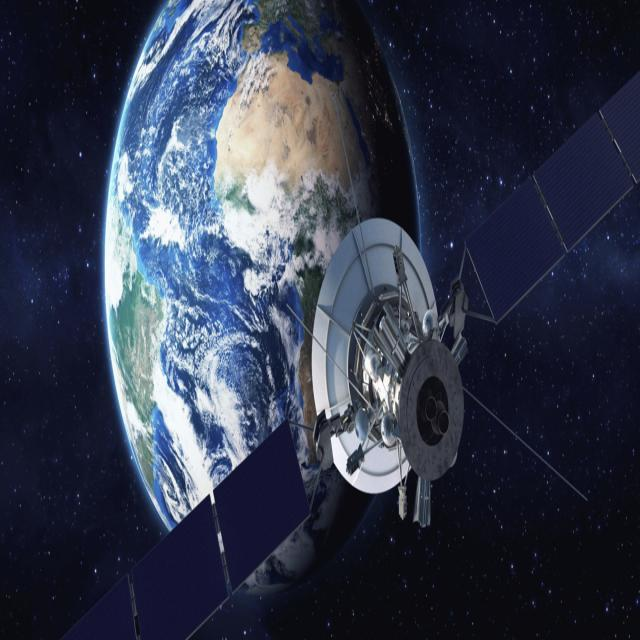sat: (48, 49, 640, 640)
